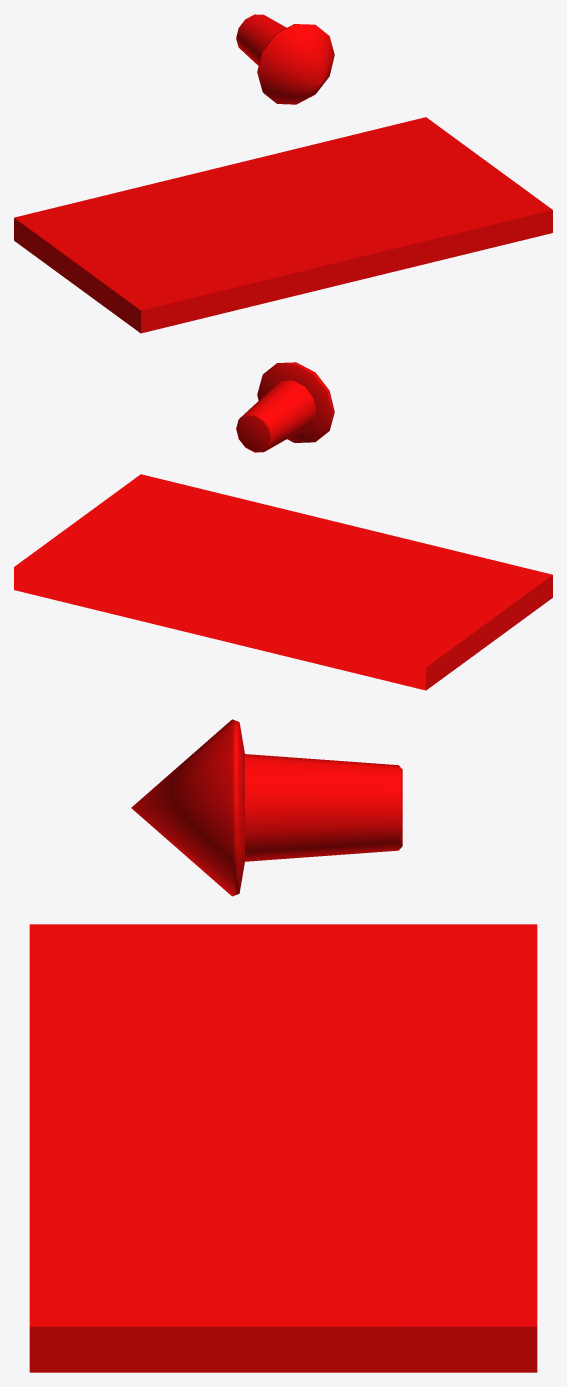
File: Gizmo_Booster_Pad_Collider_Compound.glb
3 renders of one model, top to bottom at view 1: azimuth 30°, elevation 25°; view 2: azimuth 150°, elevation 25°; view 3: azimuth 270°, elevation 25°, orthographic. The views are drawn at different scales.
Parts seen in each view (by area): view 1: Guizmo_Booster_Pad_Collider_ConvexHull, Guizmo_Booster_Pad_Collider_Compound; view 2: Guizmo_Booster_Pad_Collider_ConvexHull, Guizmo_Booster_Pad_Collider_Compound; view 3: Guizmo_Booster_Pad_Collider_ConvexHull, Guizmo_Booster_Pad_Collider_Compound.
Boxes of the visible parts, x1,y1,x2,y2 form: Guizmo_Booster_Pad_Collider_ConvexHull: (14, 117, 552, 333); Guizmo_Booster_Pad_Collider_Compound: (14, 14, 552, 332); Guizmo_Booster_Pad_Collider_ConvexHull: (14, 474, 552, 690); Guizmo_Booster_Pad_Collider_Compound: (236, 362, 552, 689); Guizmo_Booster_Pad_Collider_ConvexHull: (29, 924, 537, 1372); Guizmo_Booster_Pad_Collider_Compound: (29, 719, 532, 1372).
Size of the model in its own units: 3.75 by 1.93 by 2.
